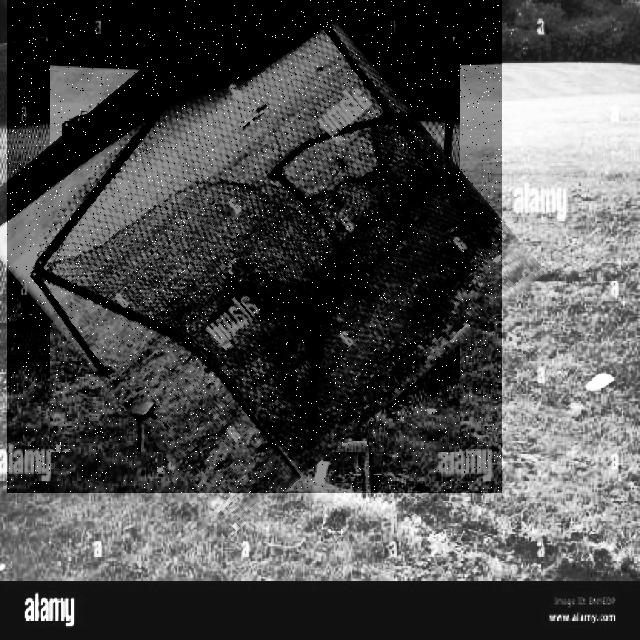anomaly-fence: (7, 0, 502, 493)
